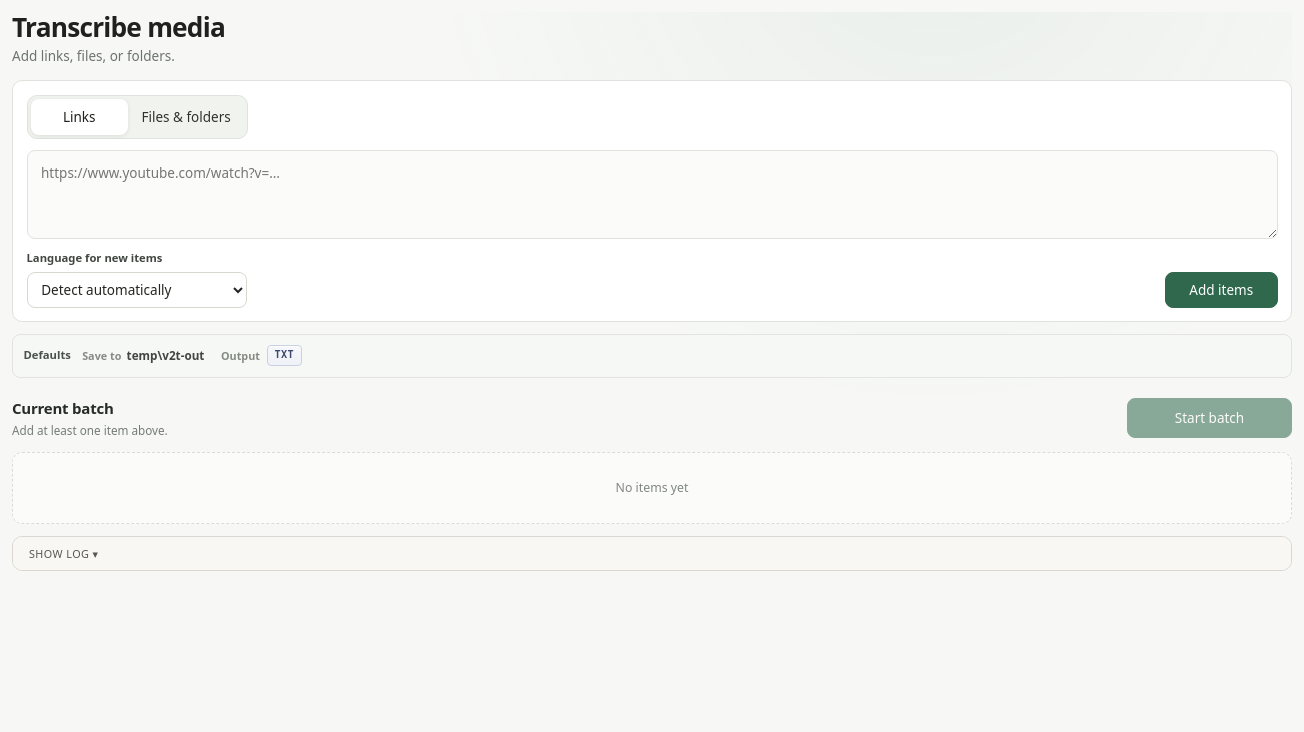
Test: QueuePanel › adds URLs and completes process_queue_item
Step 1. Type "https://example.com/video" into the text box with test id "url-input" → (652, 195), box [26,150,1278,239]
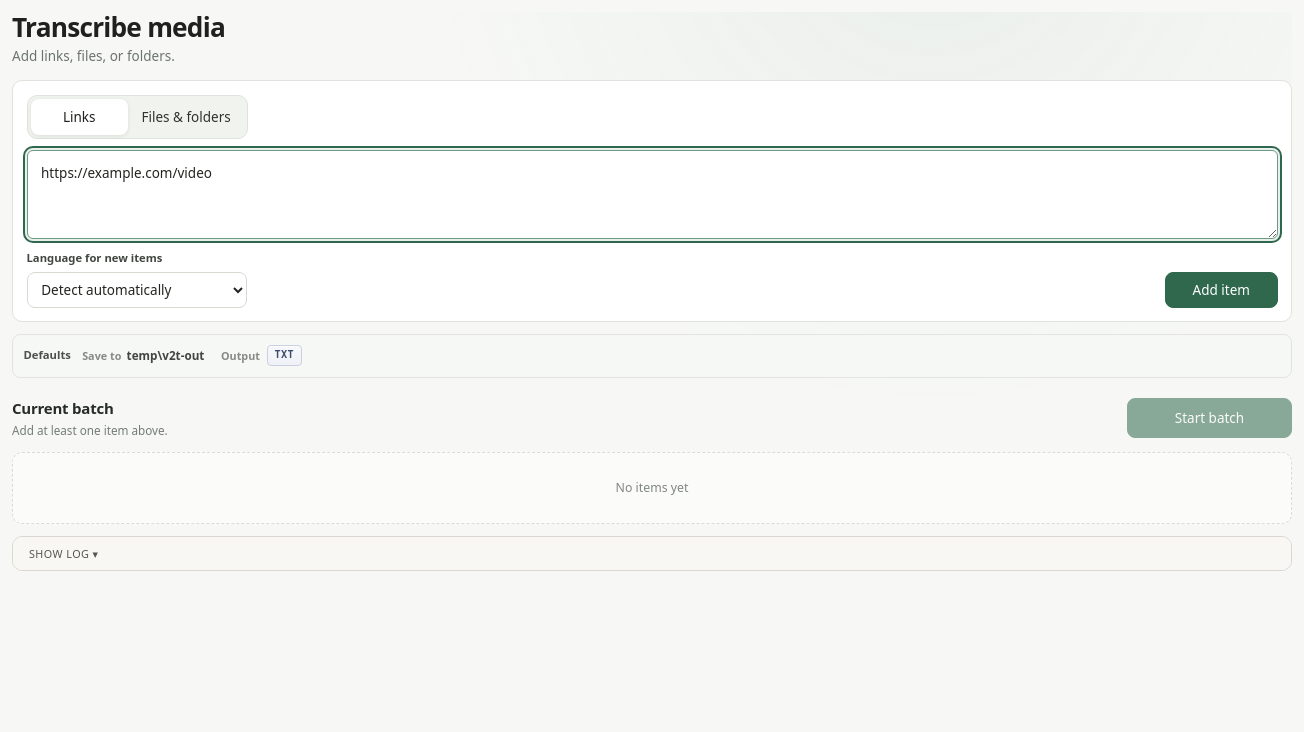
Step 2. Click the button with test id "add-urls" → (1221, 290), box [1165,272,1278,308]
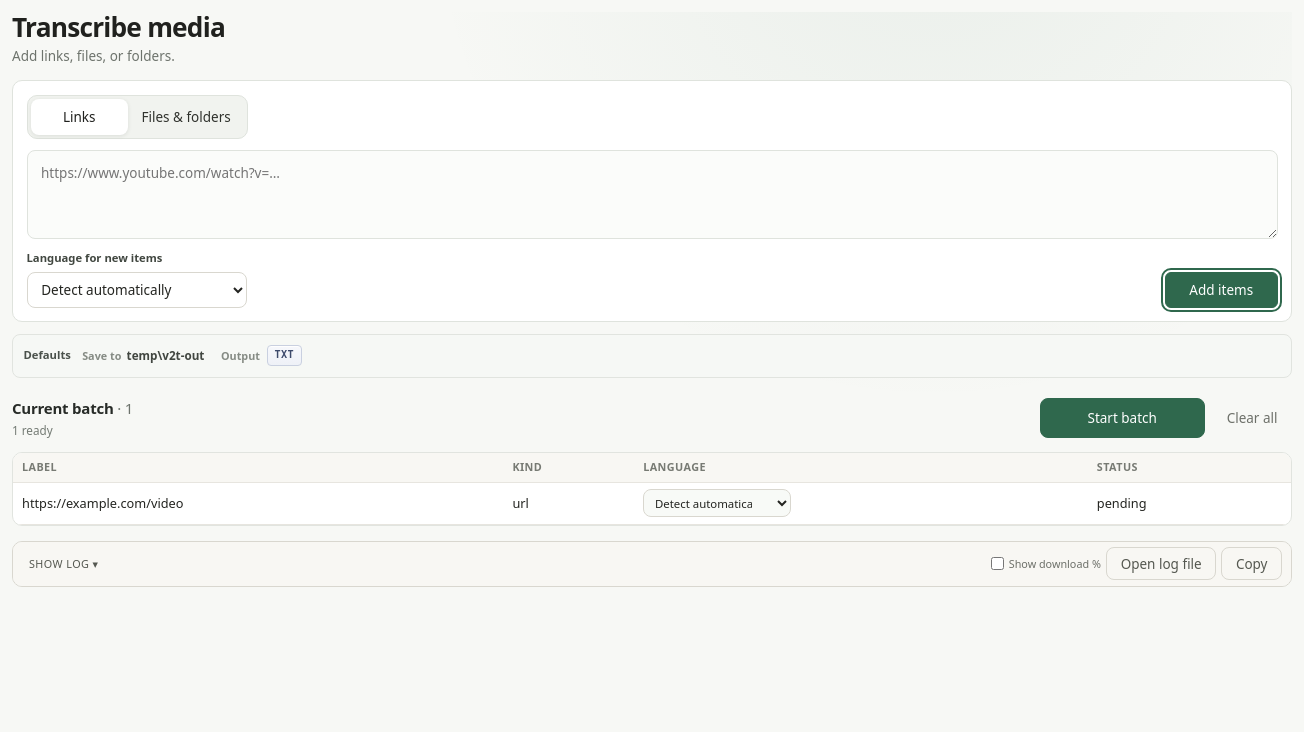
Check: the number of rows with test id "queue-row" is 1, box [13,482,1291,524]
Step 3. Click the button with test id "start-queue" → (1122, 418), box [1040,398,1205,438]
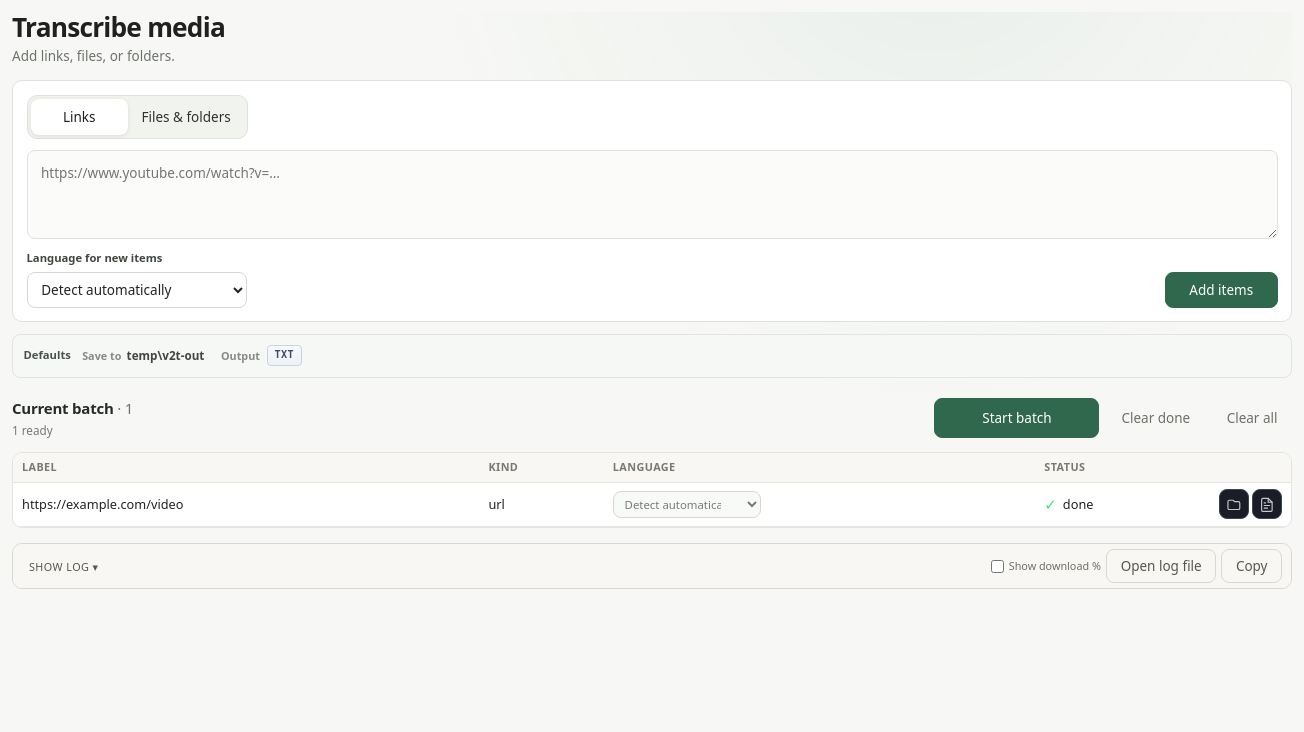
Check: the text with test id "job-status-" reads "done", box [1063,495,1093,513]
